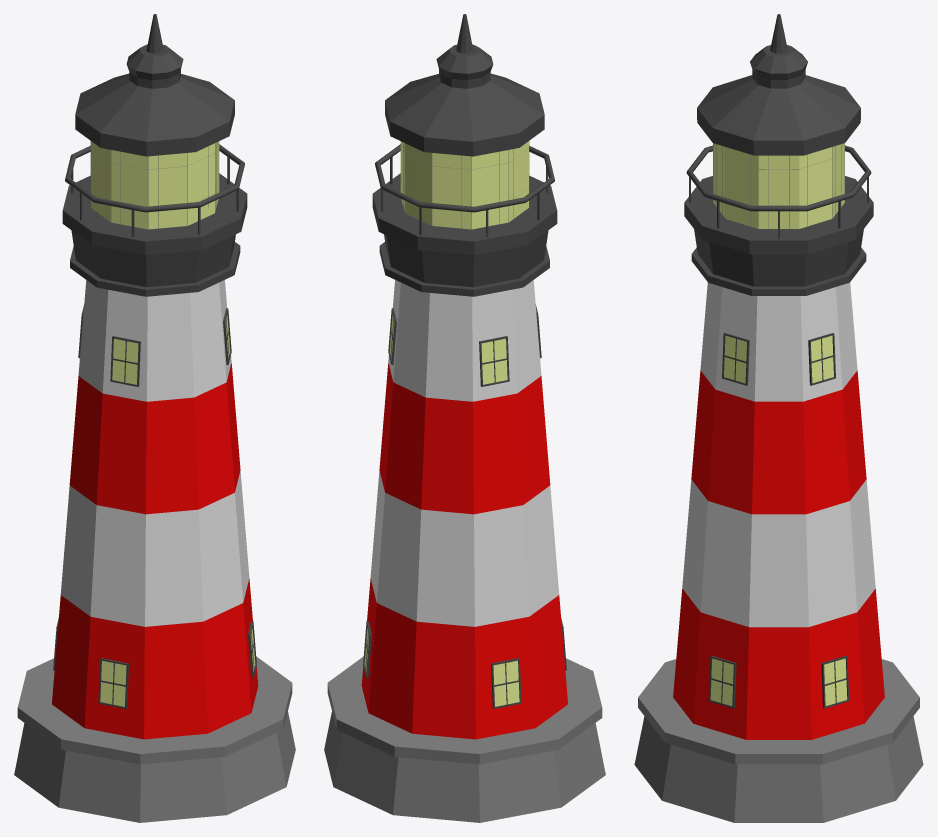
Rendered from lighthouse.glb.
3 views of the same model, side by side, from view 1: azimuth 30°, elevation 25°; view 2: azimuth 150°, elevation 25°; view 3: azimuth 270°, elevation 25° (orthographic).
Parts seen in each view (by area): view 1: Circle, Circle.002, Plane.001, Plane, Circle.003; view 2: Circle, Circle.002, Plane.001, Plane, Circle.003; view 3: Circle, Plane.001, Plane, Circle.002, Circle.003.
Boxes of the visible parts, box(x1,y1,x2,y2) form: Circle: box(14, 14, 295, 822); Circle.002: box(65, 144, 244, 236); Plane.001: box(53, 617, 256, 708); Plane: box(78, 304, 231, 386); Circle.003: box(90, 141, 218, 229); Circle: box(324, 14, 605, 822); Circle.002: box(375, 144, 554, 237); Plane.001: box(363, 617, 566, 708); Plane: box(388, 304, 541, 386); Circle.003: box(401, 141, 529, 229); Circle: box(634, 14, 923, 822); Plane.001: box(708, 655, 849, 708); Plane: box(722, 333, 835, 385); Circle.002: box(686, 145, 871, 238); Circle.003: box(713, 143, 844, 228).
Bounding box in the file's own units: 4.26 × 12.83 × 4.48.
1 material, 1 textured.
